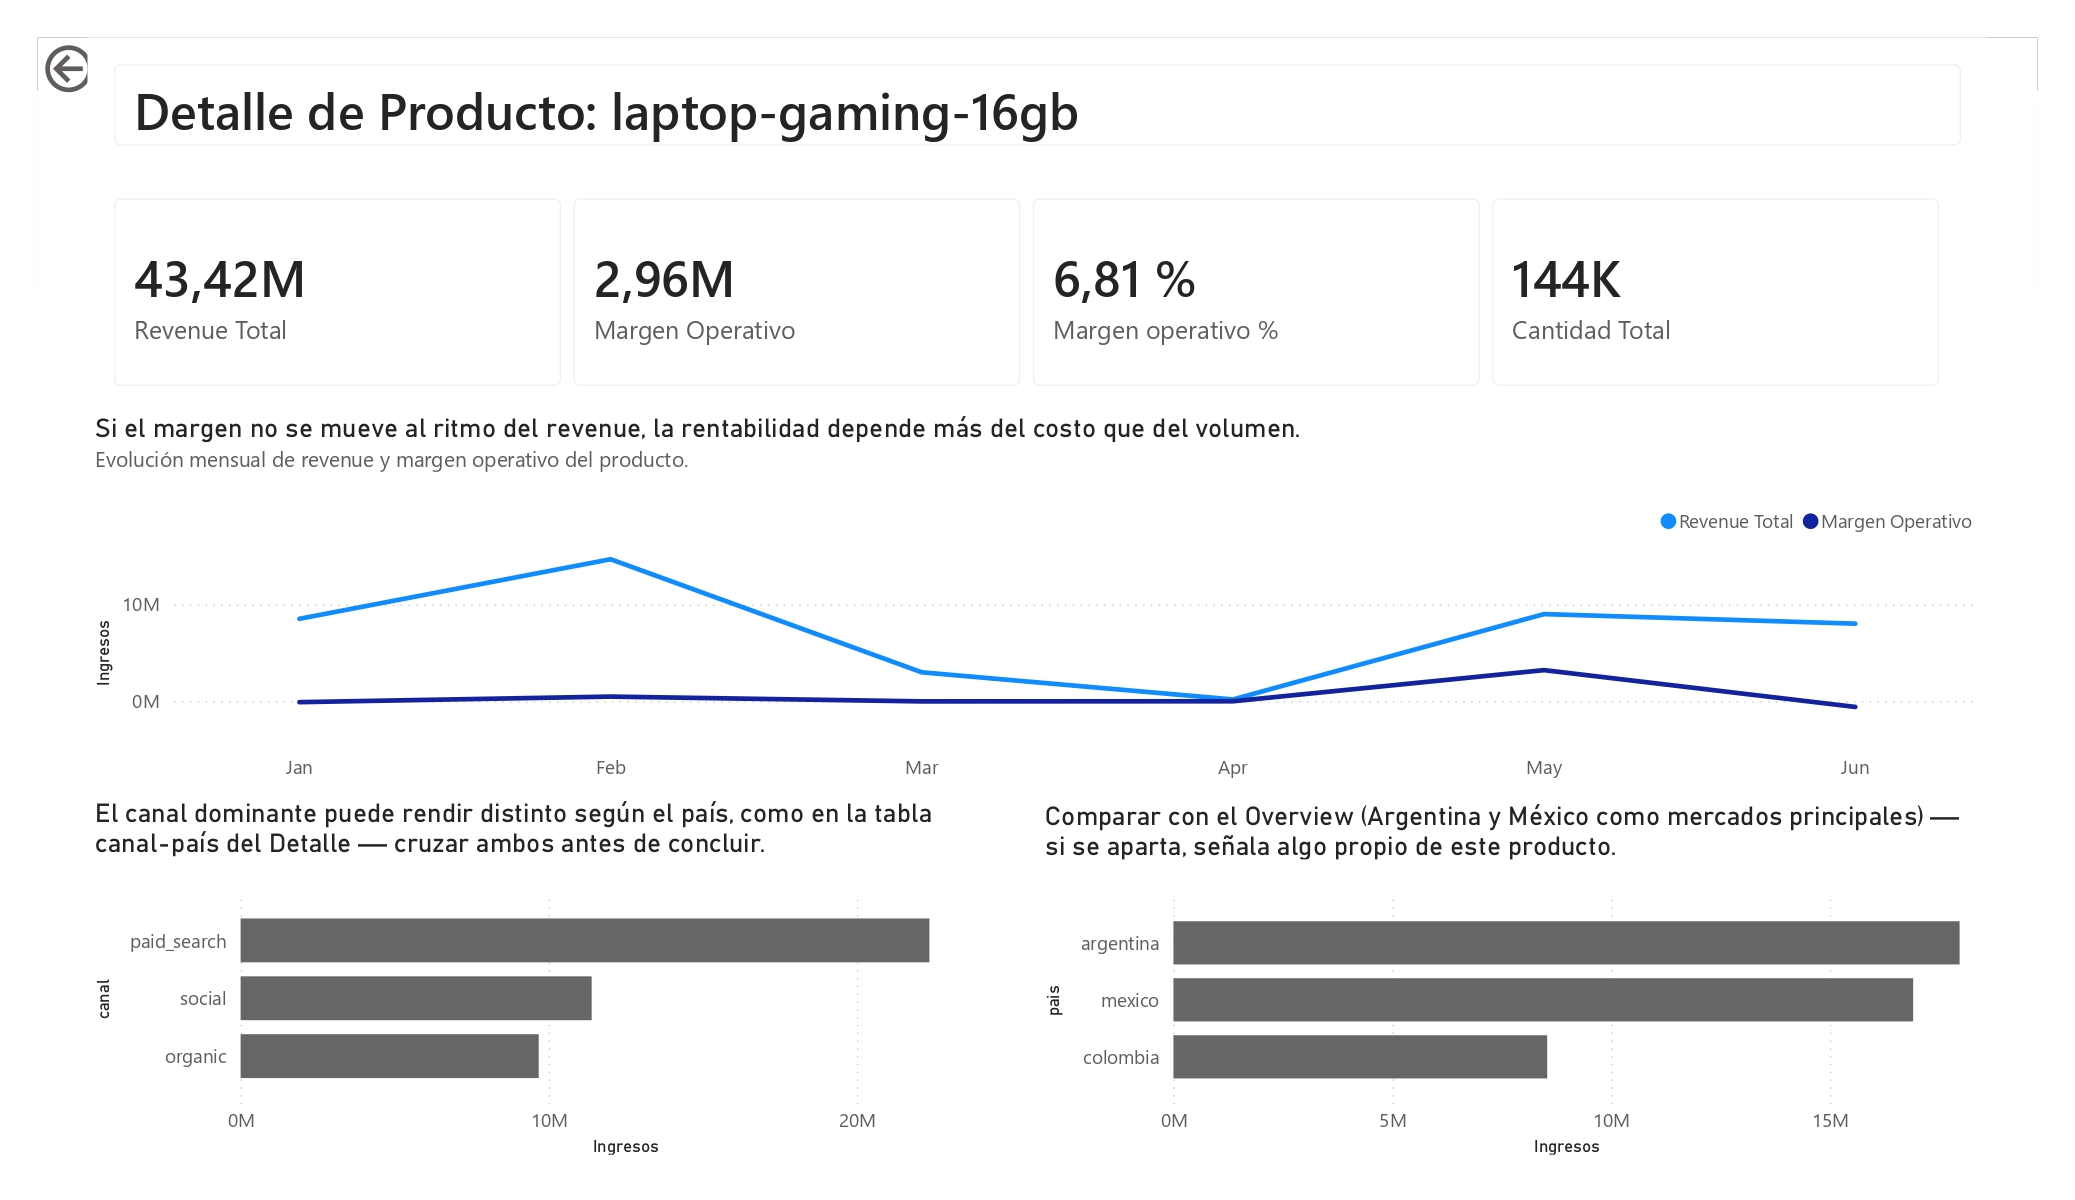

The dashboard page shown, as its layout file describes it:
{"tool":"powerbi","page":{"name":"Detalle Producto","canvas":[1280,720],"ordinal":2},"visuals":[{"type":"actionButton","box":[0,0,100,40],"z":0},{"type":"cardVisual","fields":{"Data":["Medidas.Titulo Producto"]},"box":[32,0,1216,86],"z":1},{"type":"cardVisual","fields":{"Data":["Medidas.Revenue Total","Medidas.Margen Operativo","Medidas.Margen operativo %","Medidas.Cantidad Total"]},"box":[32,86,1202,154],"z":2},{"type":"lineChart","title":"Si el margen no se mueve al ritmo del revenue, la rentabilidad depende más del costo que del volumen.","fields":{"Category":["dim_fecha.Mes"],"Y":["Medidas.Revenue Total","Medidas.Margen Operativo"]},"box":[32,240,1216,246],"z":3},{"type":"clusteredBarChart","title":"Comparar con el Overview (Argentina y México como mercados principales) — si se aparta, señala algo propio de este producto.","fields":{"Category":["orders_clean.pais"],"Y":["Medidas.Revenue Total"]},"box":[640,488,608,232],"z":4},{"type":"clusteredBarChart","title":"El canal dominante puede rendir distinto según el país, como en la tabla canal-país del Detalle — cruzar ambos antes de concluir.","fields":{"Category":["orders_clean.canal"],"Y":["Medidas.Revenue Total"]},"box":[32,486,608,234],"z":5}]}

Visuals, with their boxes on the page's 1280x720 design canvas (x1, y1, x2, y2). These are canvas units, not pixel positions in the 2075x1200 screenshot, which may show the page scaled, cropped or inside an application window:
actionButton: 0/0/100/40
cardVisual - Medidas.Titulo Producto: 32/0/1248/86
cardVisual - Medidas.Revenue Total x Medidas.Margen Operativo: 32/86/1234/240
"Si el margen no se mueve al ritmo del revenue, la rentabilidad depende más del costo que del volumen." lineChart: 32/240/1248/486
"Comparar con el Overview (Argentina y México como mercados principales) — si se aparta, señala algo propio de este producto." clusteredBarChart: 640/488/1248/720
"El canal dominante puede rendir distinto según el país, como en la tabla canal-país del Detalle — cruzar ambos antes de concluir." clusteredBarChart: 32/486/640/720
